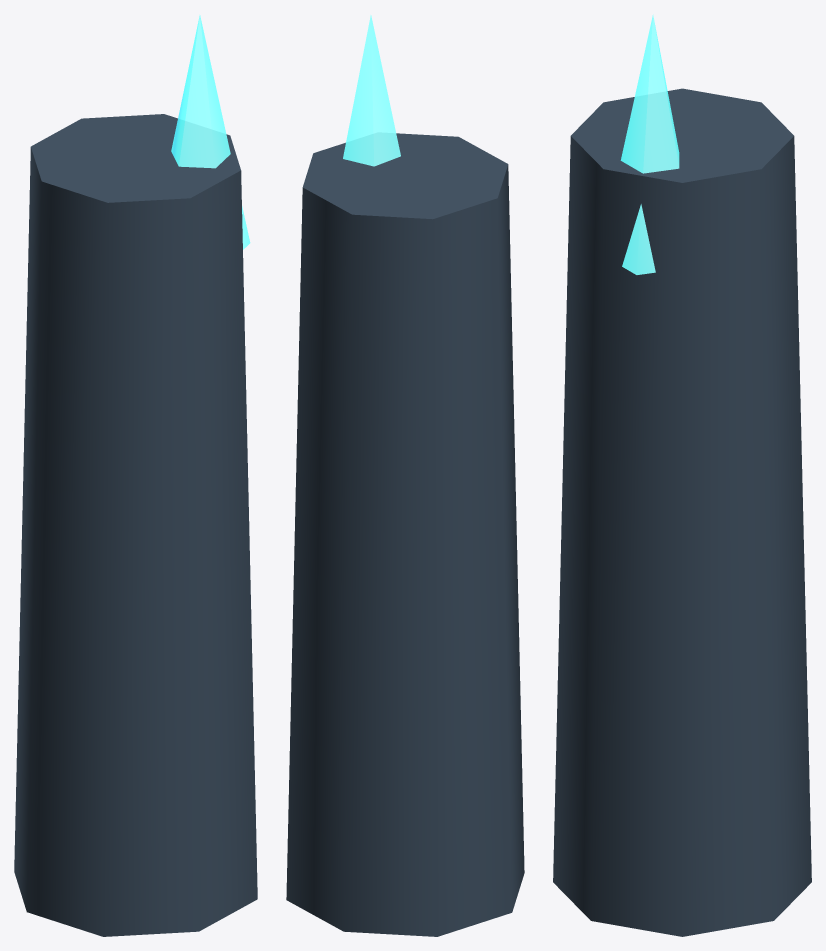
The model's file is frozen_pillar_a.glb.
3 views of the same model, side by side, from view 1: azimuth 30°, elevation 25°; view 2: azimuth 150°, elevation 25°; view 3: azimuth 270°, elevation 25° (orthographic). The views are drawn at different scales.
Size of the model in its own units: 0.88 by 3.35 by 0.88.
